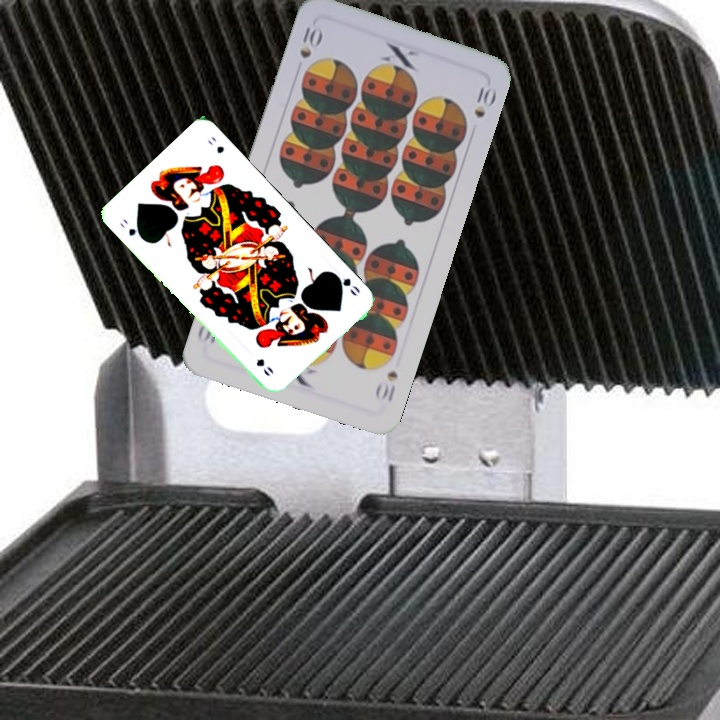GO: (330, 269, 363, 299), (116, 215, 147, 243)
S10: (295, 22, 325, 62), (371, 367, 401, 405)
